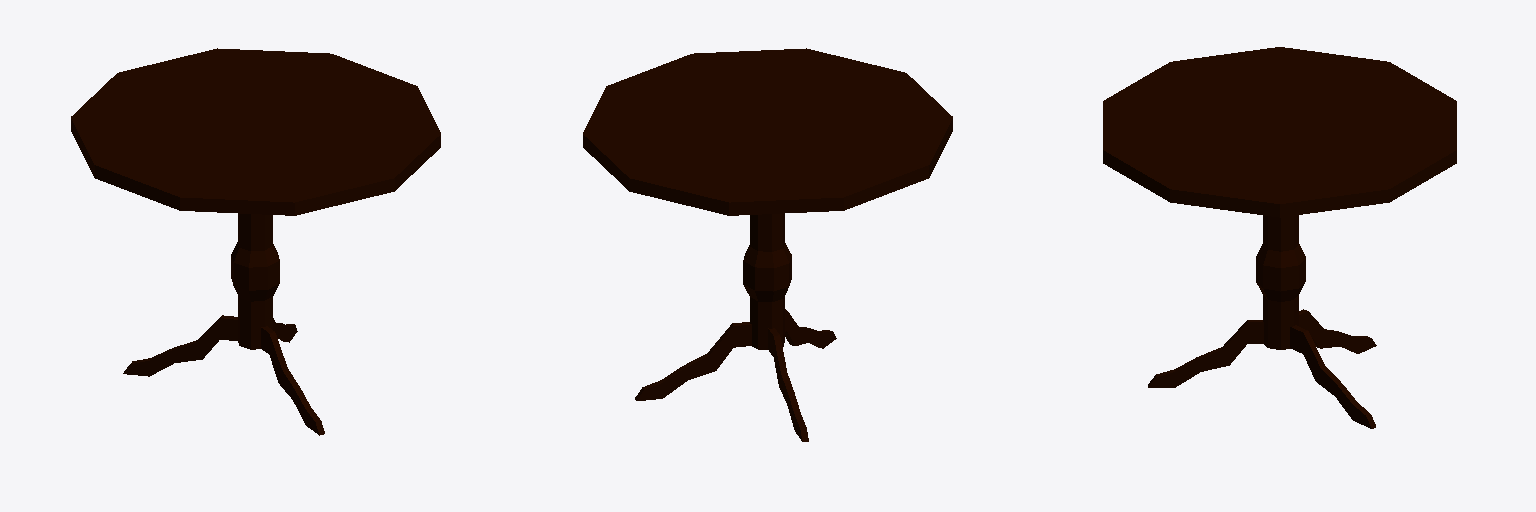
The model's file is fancyTable.obj.
3 renders of one model, left to right at view 1: azimuth 30°, elevation 25°; view 2: azimuth 150°, elevation 25°; view 3: azimuth 270°, elevation 25°, orthographic.
Visible parts, largest first — view 1: Cylinder02; view 2: Cylinder02; view 3: Cylinder02.
Boxes of the visible parts, box(x1,y1,x2,y2) form: Cylinder02: box(71, 48, 440, 435); Cylinder02: box(583, 48, 952, 441); Cylinder02: box(1103, 47, 1456, 428).
Bounding box in the file's own units: 1.31 × 1.01 × 1.25.